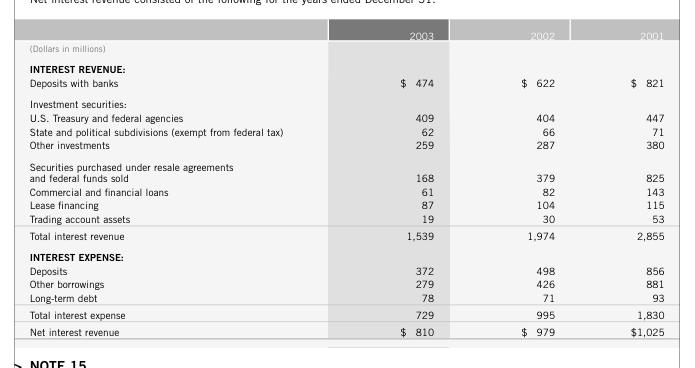table: (28, 29, 663, 336)
table column: (28, 29, 340, 336), (340, 29, 476, 336), (476, 29, 591, 336), (591, 29, 663, 336)
table column header: (28, 29, 663, 42)
table projected row header: (28, 245, 663, 263), (28, 58, 663, 75), (28, 93, 663, 110), (28, 42, 663, 58)
table row: (28, 155, 663, 184), (28, 226, 663, 245), (28, 75, 663, 93), (28, 137, 663, 155), (28, 245, 663, 263), (28, 58, 663, 75), (28, 93, 663, 110), (28, 305, 663, 322), (28, 42, 663, 58), (28, 211, 663, 226), (28, 290, 663, 305), (28, 110, 663, 124), (28, 197, 663, 211), (28, 276, 663, 290), (28, 322, 663, 336), (28, 29, 663, 42), (28, 124, 663, 137), (28, 184, 663, 197), (28, 263, 663, 276)
